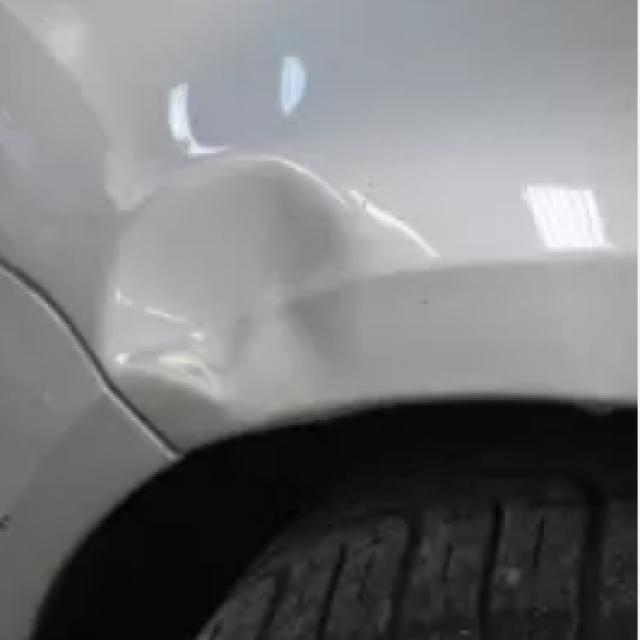dents: (88, 142, 383, 429)
